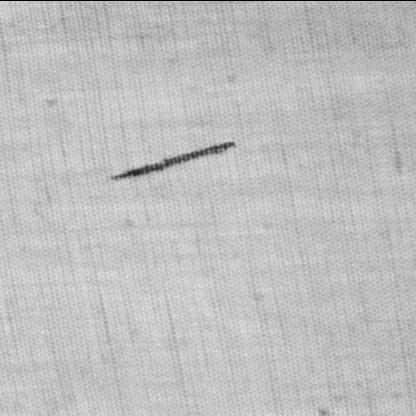oil spot: (106, 140, 238, 180)
